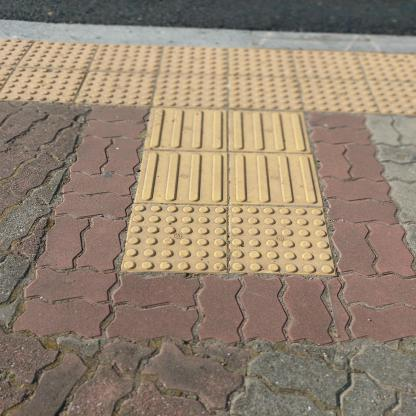podotacti: (108, 100, 346, 282), (0, 32, 415, 123)
